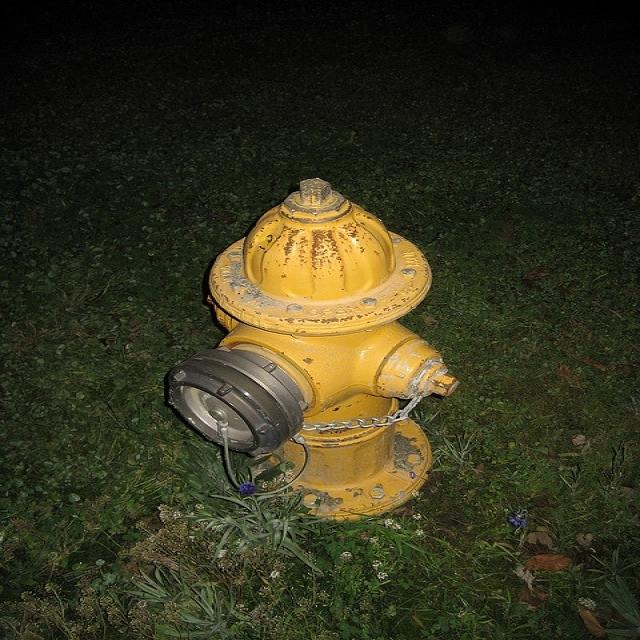fire_hydrant: (160, 157, 497, 547)
